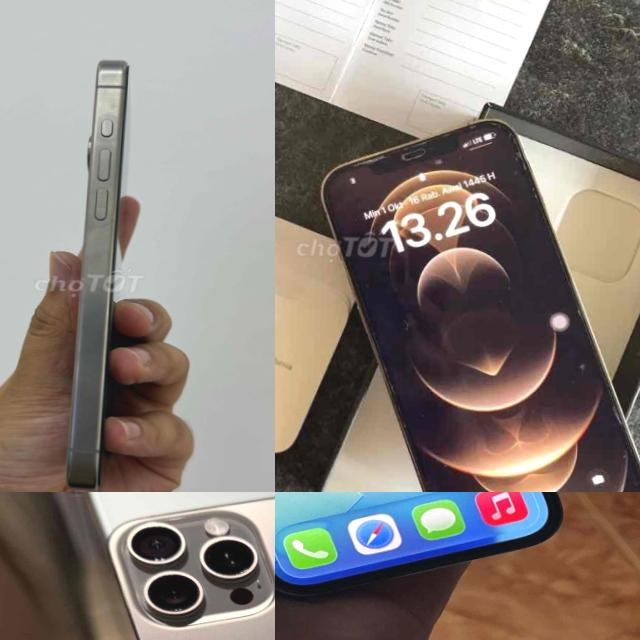gen_12_13: (310, 112, 640, 492), (275, 492, 576, 598)
gen_15: (62, 49, 137, 492), (88, 492, 275, 640)
